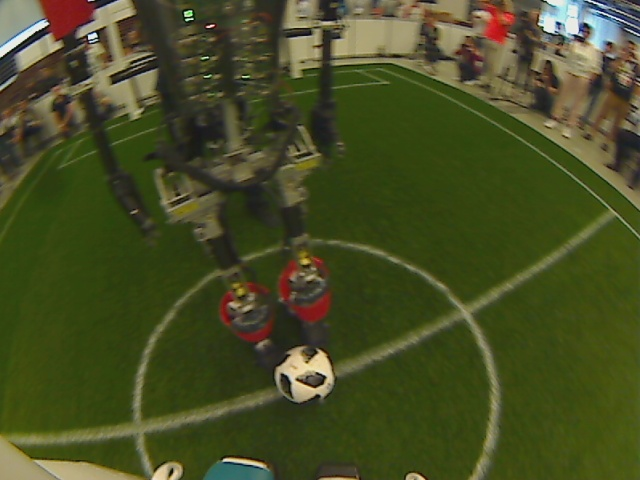ball: (271, 343, 340, 407)
